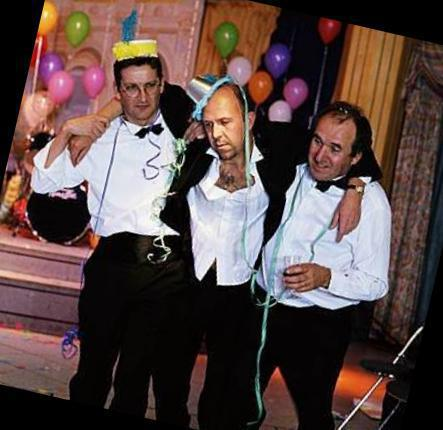Drunk: (305, 119, 353, 181), (202, 94, 246, 153), (119, 67, 161, 119)
